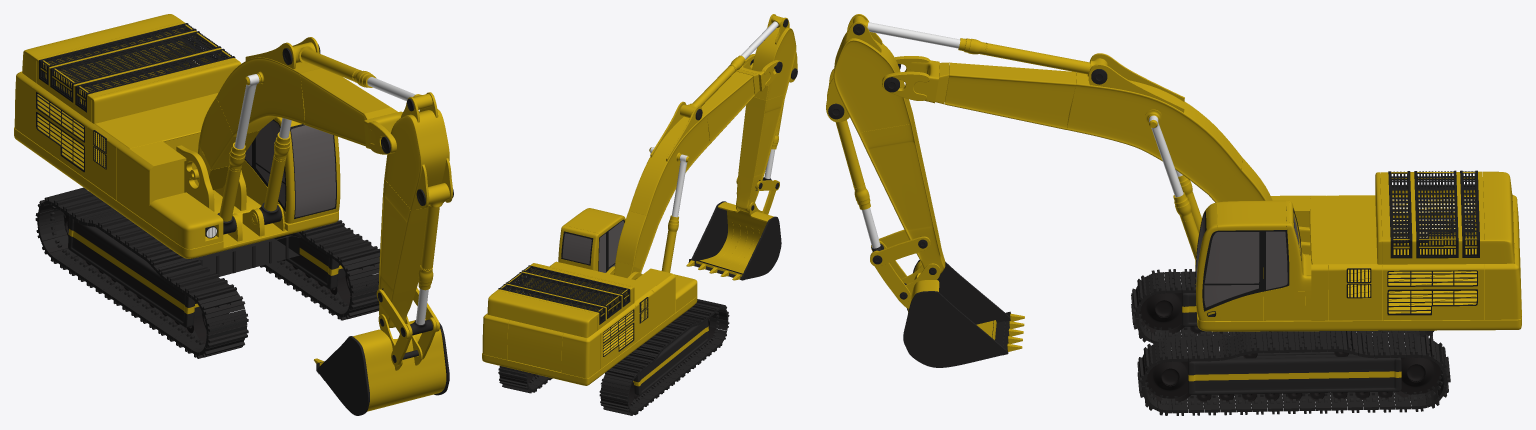
File: exc_ik.glb
3 views of the same model, side by side, from view 1: azimuth 30°, elevation 25°; view 2: azimuth 150°, elevation 25°; view 3: azimuth 270°, elevation 25° (orthographic). The views are drawn at different scales.
Parts seen in each view (by area): view 1: Tracks_124, Track Center cover_121, Stick Arm 2_35, Bucket Tray_18, Boom Arm 2_45, Stick Arm 1_34, Panel Main base_104, Boom Arm 3_46, Panel Engine Cap Front_102, Front Window_78, Panel Top_110, Panel Engine Cap Center_101 (+40 smaller); view 2: Tracks_124, Boom Arm 2_45, Stick Arm 2_35, Panel Engine Cap Rear_103, Panel Rear Corner_109, Bucket Side_16, Bucket Tray_18, Panel Rear Center_108, Boom Arm 3_46, Stick Arm 1_34, Track Center cover_121, Panel Main base_104 (+25 smaller); view 3: Tracks_124, Boom Arm 2_45, Track Center cover_121, Bucket Side_16, Boom Arm 3_46, Stick Arm 2_35, Stick Arm 1_34, Panel Top_110, Side Windows_113, Panel Main base_104, Panel Center side_100, Panel Engine Cap Center_101 (+33 smaller).
Part boxes in pixels (bbox=[...]): Tracks_124: bbox=[35, 187, 379, 358]; Track Center cover_121: bbox=[68, 217, 345, 327]; Stick Arm 2_35: bbox=[378, 180, 427, 327]; Bucket Tray_18: bbox=[353, 319, 446, 411]; Boom Arm 2_45: bbox=[216, 57, 320, 136]; Stick Arm 1_34: bbox=[384, 109, 449, 210]; Panel Main base_104: bbox=[14, 127, 338, 258]; Boom Arm 3_46: bbox=[300, 68, 390, 146]; Panel Engine Cap Front_102: bbox=[91, 61, 241, 123]; Front Window_78: bbox=[291, 125, 335, 217]; Panel Top_110: bbox=[95, 93, 218, 148]; Panel Engine Cap Center_101: bbox=[36, 22, 238, 121]; Tracks_124: bbox=[498, 299, 729, 415]; Boom Arm 2_45: bbox=[629, 113, 710, 224]; Stick Arm 2_35: bbox=[736, 94, 785, 212]; Panel Engine Cap Rear_103: bbox=[487, 290, 597, 337]; Panel Rear Corner_109: bbox=[482, 314, 600, 378]; Bucket Side_16: bbox=[690, 201, 781, 279]; Bucket Tray_18: bbox=[696, 202, 773, 276]; Panel Rear Center_108: bbox=[507, 320, 563, 372]; Boom Arm 3_46: bbox=[701, 71, 754, 143]; Stick Arm 1_34: bbox=[752, 27, 796, 100]; Track Center cover_121: bbox=[630, 319, 709, 395]; Panel Main base_104: bbox=[482, 296, 697, 385]; Tracks_124: bbox=[1131, 269, 1450, 415]; Boom Arm 2_45: bbox=[1066, 72, 1242, 194]; Track Center cover_121: bbox=[1181, 286, 1401, 394]; Bucket Side_16: bbox=[903, 260, 1010, 367]; Boom Arm 3_46: bbox=[945, 62, 1076, 129]; Stick Arm 2_35: bbox=[858, 113, 945, 273]; Stick Arm 1_34: bbox=[833, 32, 912, 133]; Panel Top_110: bbox=[1309, 195, 1377, 265]; Side Windows_113: bbox=[1204, 231, 1287, 307]; Panel Main base_104: bbox=[1195, 248, 1521, 331]; Panel Center side_100: bbox=[1382, 196, 1484, 320]; Panel Engine Cap Center_101: bbox=[1380, 171, 1484, 264].
Size of what is drawn, in the model's own units: 3.72 by 6.47 by 11.88.
